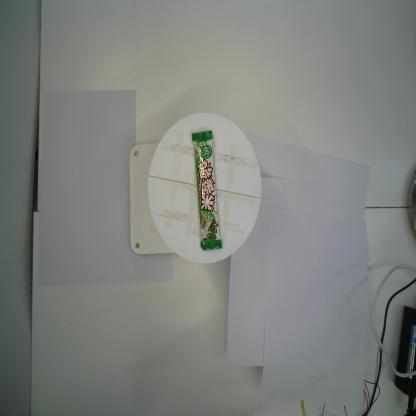Chocolate: (190, 129, 224, 253)
